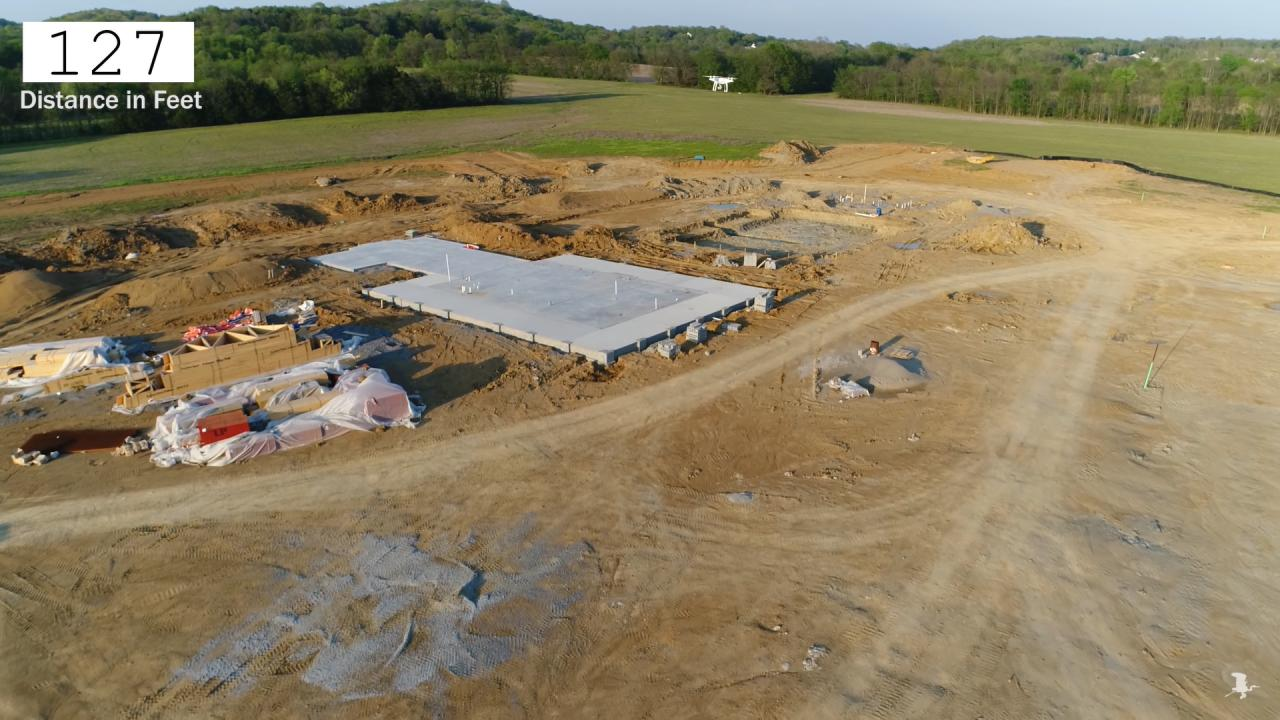Drone: (697, 67, 743, 101)
